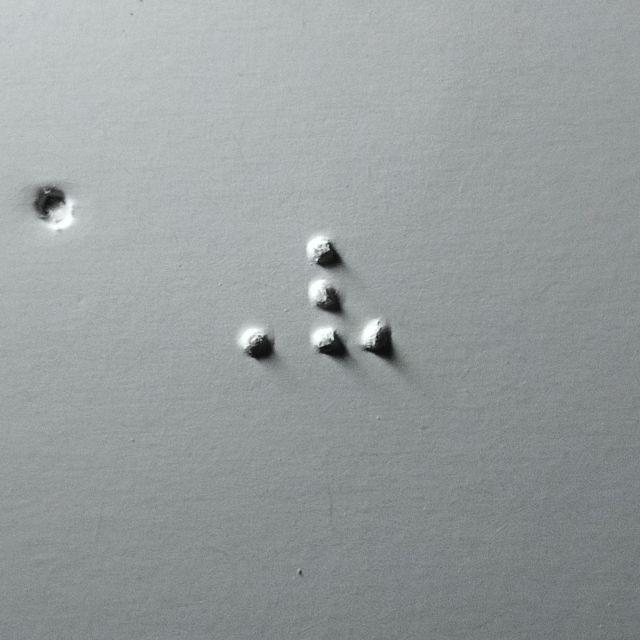V: (305, 229, 401, 364)
capital: (192, 233, 277, 364)
